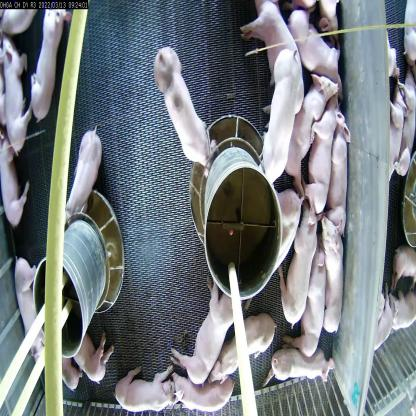Pig: (150, 34, 214, 176), (276, 59, 338, 203), (25, 4, 74, 126), (245, 0, 302, 103), (178, 278, 229, 389), (260, 40, 300, 180), (57, 114, 104, 224), (325, 101, 365, 225), (284, 16, 343, 96), (0, 40, 36, 166), (279, 197, 313, 329), (210, 310, 276, 373), (311, 98, 342, 230), (316, 212, 348, 338), (166, 363, 243, 415), (16, 260, 48, 375), (0, 115, 30, 228), (116, 360, 173, 415), (62, 330, 118, 385), (304, 247, 329, 354), (268, 345, 329, 384)
